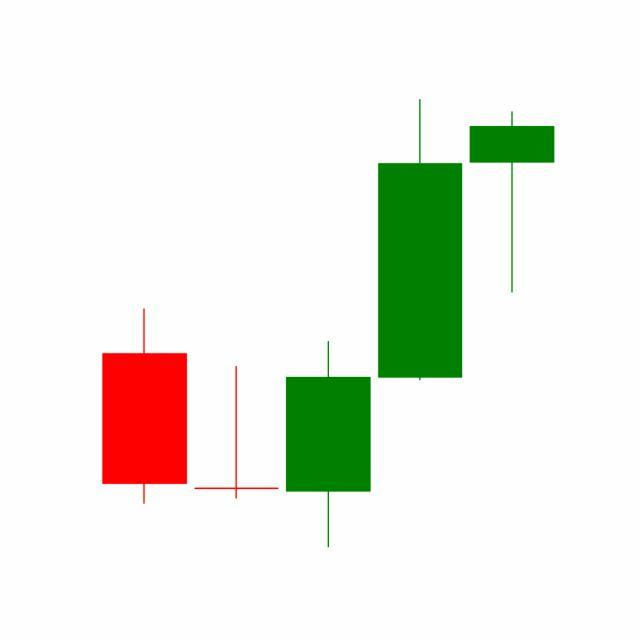Advance Block: (280, 99, 555, 549)
